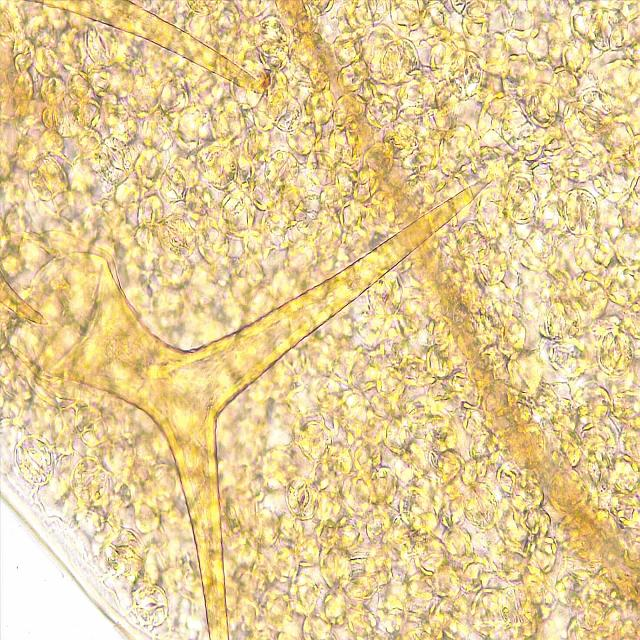Stomata: (26, 153, 76, 205), (101, 525, 148, 579), (12, 434, 56, 489), (156, 210, 199, 264), (445, 46, 484, 102), (459, 481, 502, 531), (71, 455, 111, 508), (573, 84, 615, 134), (262, 147, 301, 199), (378, 36, 420, 84), (366, 268, 404, 320), (130, 581, 171, 629), (98, 134, 134, 186), (265, 89, 304, 137), (587, 6, 628, 51), (598, 329, 635, 378), (502, 175, 539, 224), (84, 19, 121, 68), (497, 583, 538, 626), (202, 145, 240, 191), (297, 418, 335, 464), (563, 188, 599, 236), (544, 300, 582, 344), (284, 475, 320, 521), (74, 403, 109, 447), (456, 219, 491, 263)
